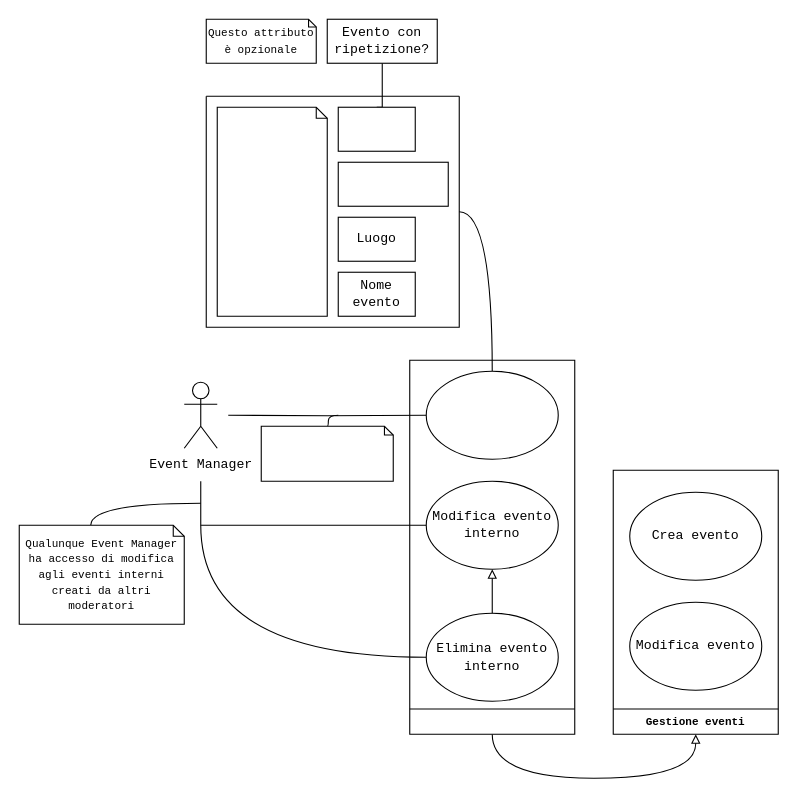
This 798x798 diagram has some shape labels left out. The box of each missing label's shape, as (x1, y1, x2, y2) in pixels:
Crea evento interno: (425, 370, 558, 459)
Data: (337, 106, 415, 151)
Descrizione evento: (337, 161, 448, 206)
Gestione eventi interni: (409, 359, 575, 734)
Per creare un evento è necessario inserire questi quattro attributi: (216, 106, 327, 316)
Richiede che il login sia stato effettuato: (260, 425, 393, 481)
